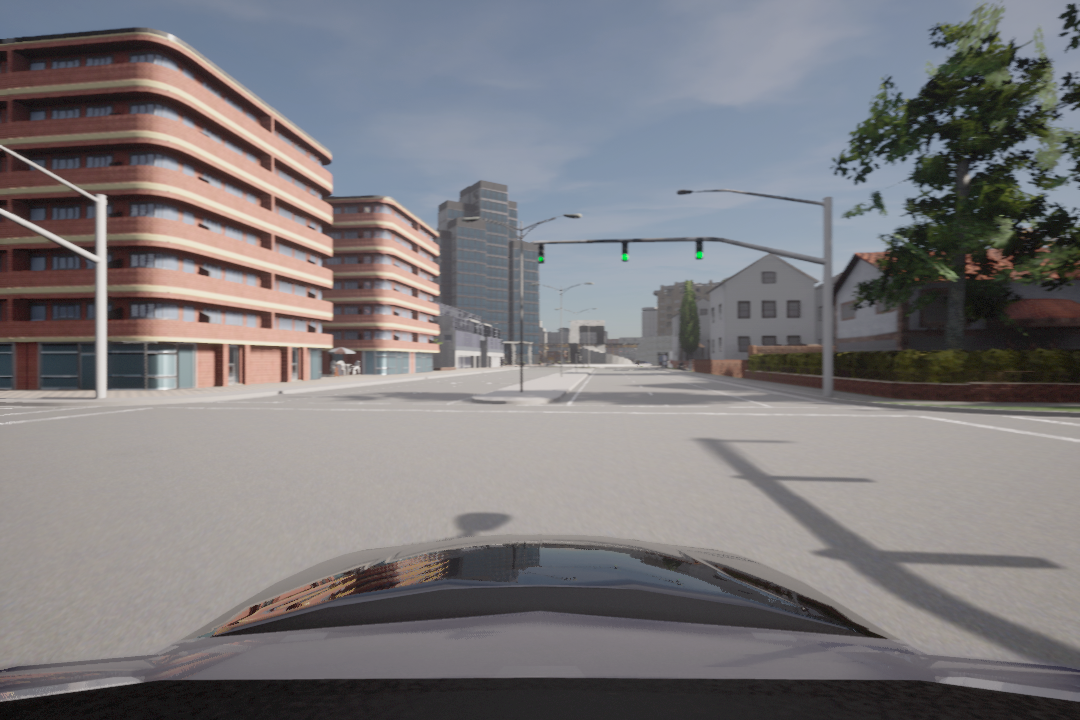TrafficLight: (618, 237, 632, 264), (536, 239, 548, 267), (694, 236, 707, 260)
